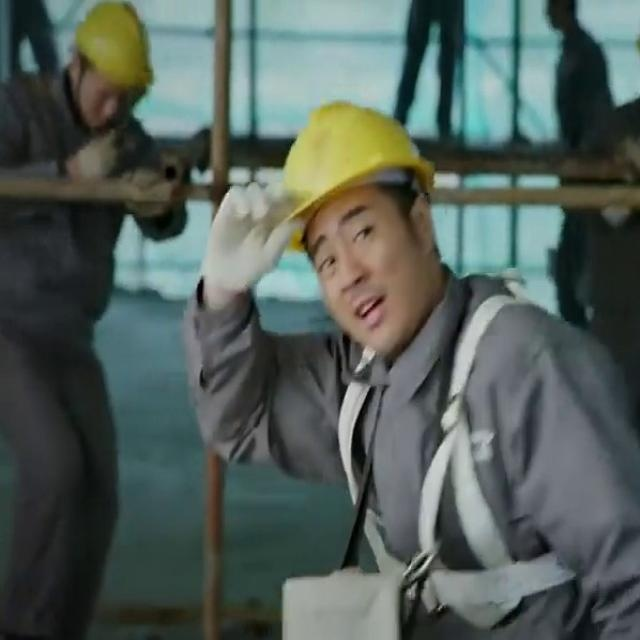Arnes_seguridad: (333, 269, 587, 617)
